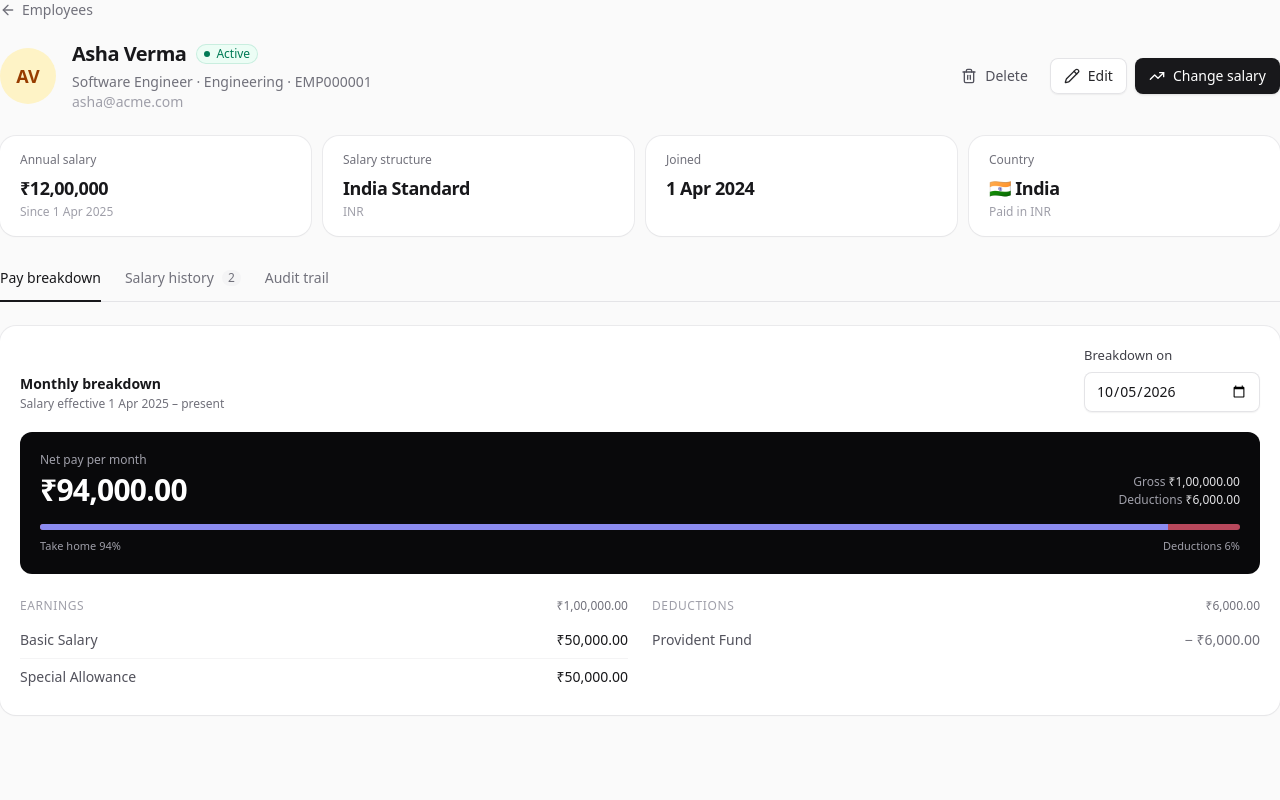
Test: EmployeeDetailPage › records a salary change and shows a rule error from the API
Click the button "Change salary": [1207, 76] box [1135,58,1279,94]
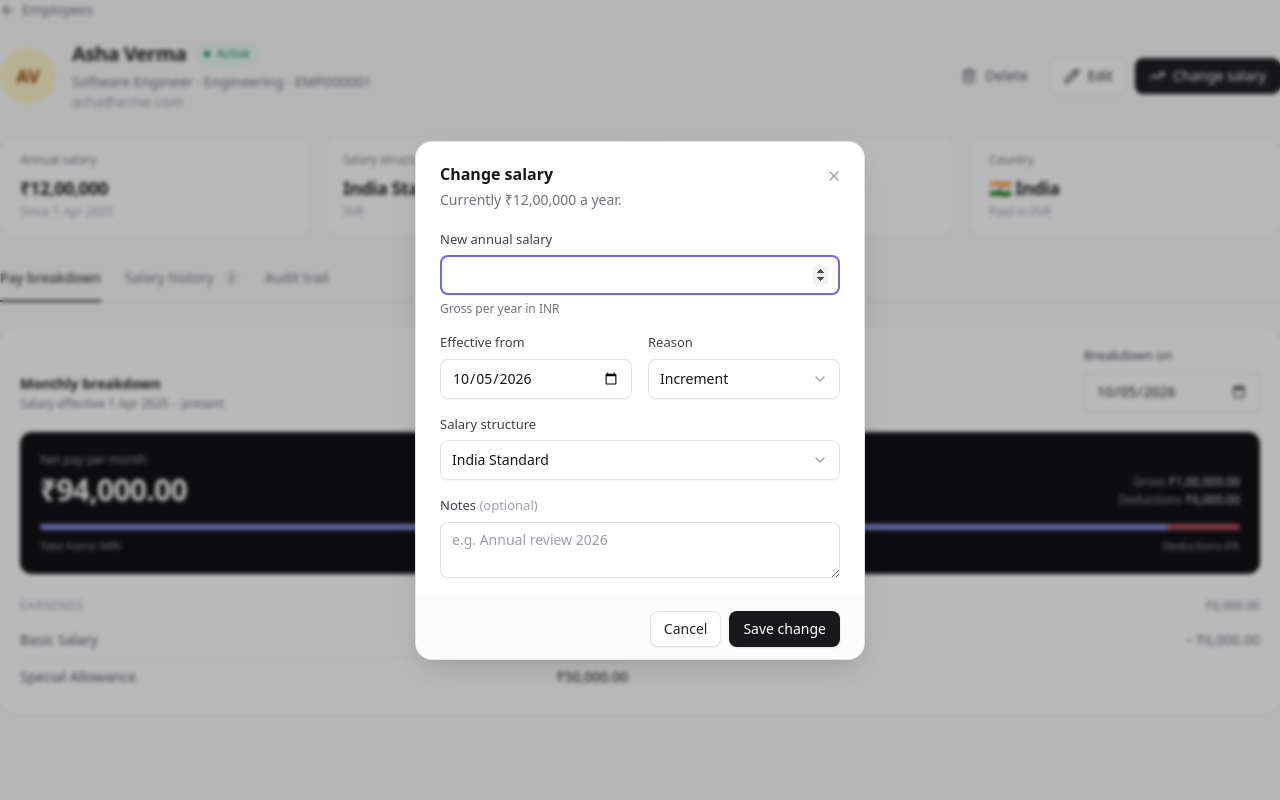
In the number field labelled "New annual salary": [640, 275] box [440,255,840,295], type "1300000"
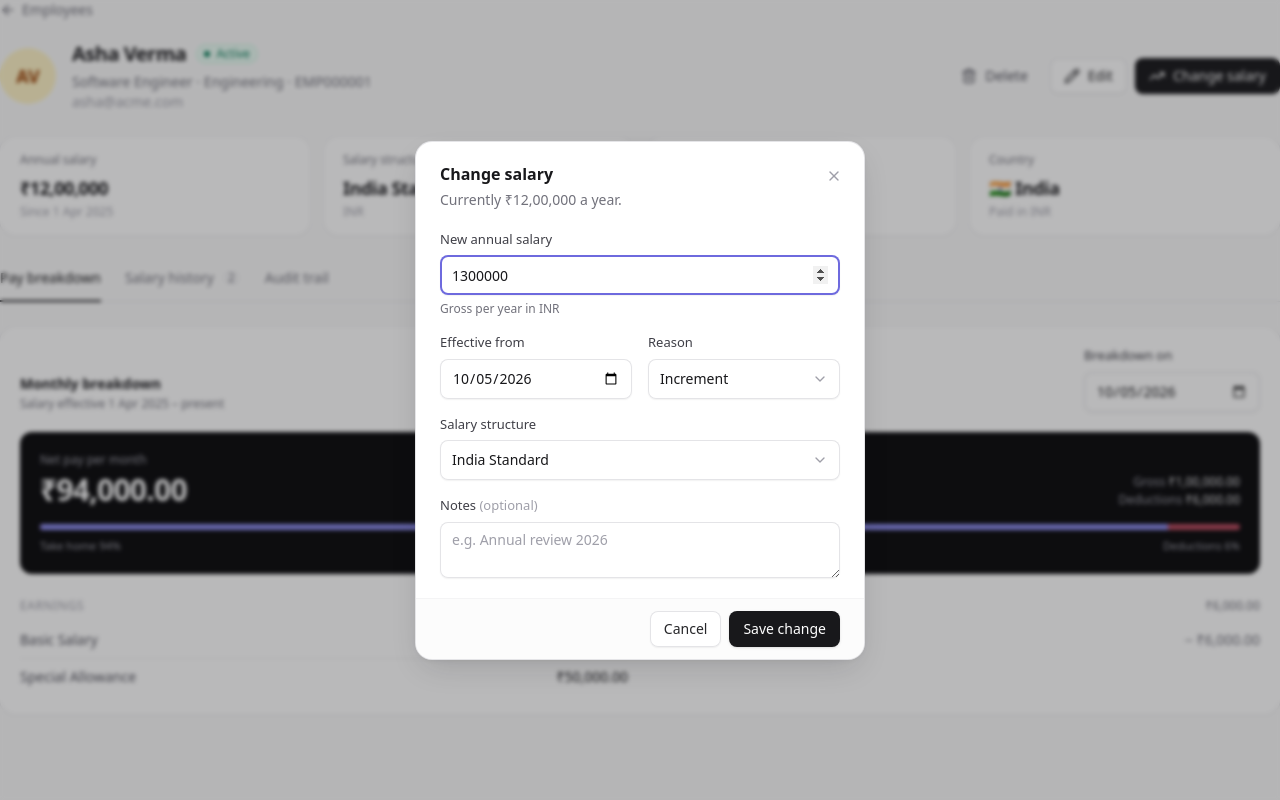
Click the button "Save change": [785, 628] box [729,610,840,646]
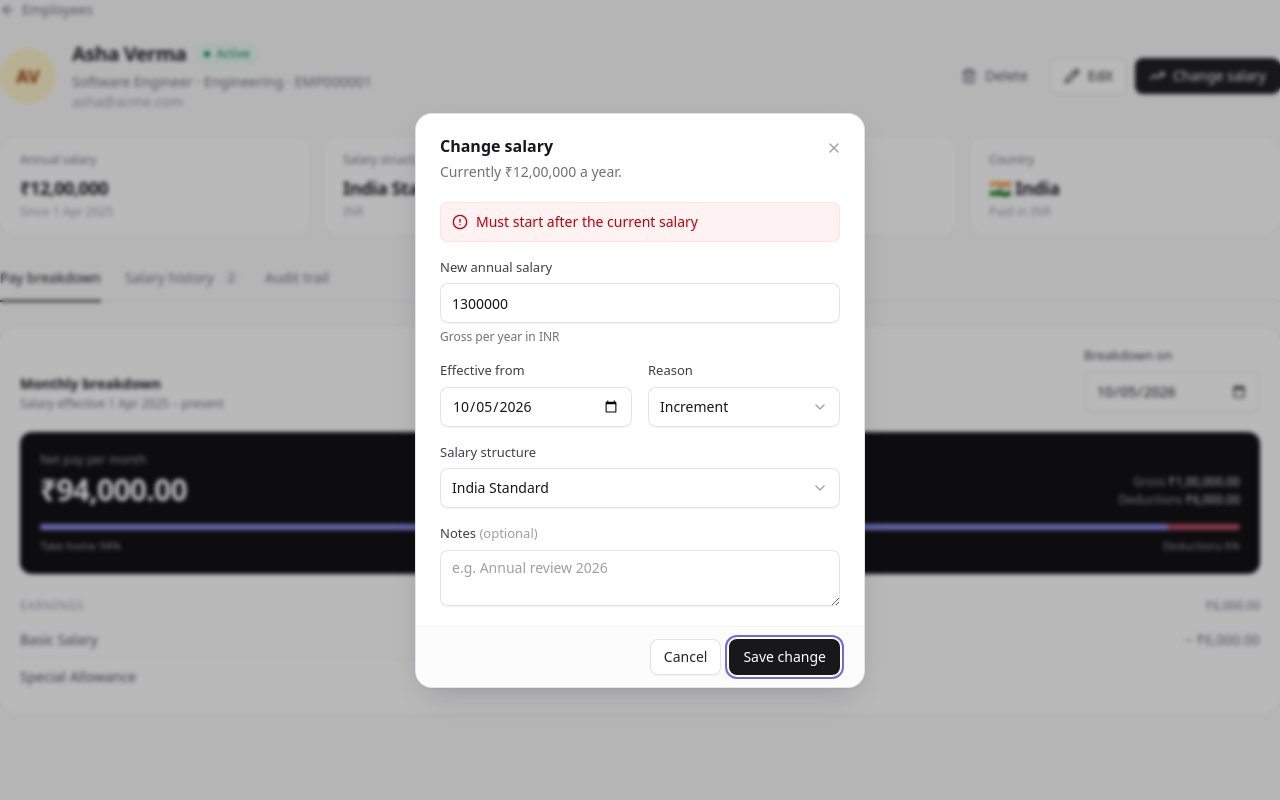
Now the message reads "Must start after the current salary", box [476,212,698,230]
